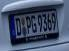3: (42, 13, 48, 31)
6: (47, 13, 52, 30)
9: (37, 15, 43, 32), (51, 13, 56, 30)
D: (15, 17, 22, 36)
G: (31, 15, 37, 33)
P: (26, 15, 31, 34)
